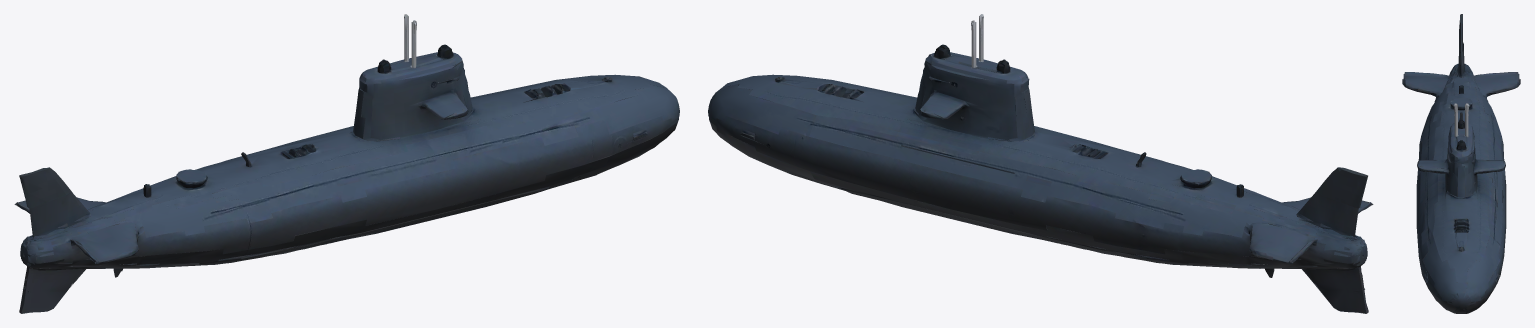
File: hunter_LOD1.glb
3 views of the same model, side by side, from view 1: azimuth 30°, elevation 25°; view 2: azimuth 150°, elevation 25°; view 3: azimuth 270°, elevation 25° (orthographic). The views are drawn at different scales.
Visible parts, largest first — view 1: hunter_LOD1; view 2: hunter_LOD1; view 3: hunter_LOD1.
Part boxes in pixels (x1,y1,x2,y2): hunter_LOD1: (14,14,679,313); hunter_LOD1: (708,14,1373,313); hunter_LOD1: (1402,14,1520,313).
Size of the model in its own units: 0.9997 by 0.298 by 0.2215.
Materials: 1 (1 with a texture image).
